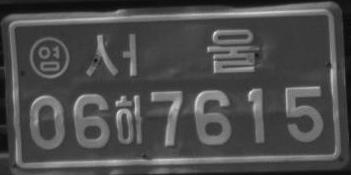0: (28, 94, 66, 151)
1: (241, 88, 276, 143)
5: (284, 85, 323, 143)
6: (194, 89, 232, 146), (73, 93, 111, 149)
7: (150, 89, 184, 147)
서울_D: (85, 27, 259, 76)
영: (28, 36, 69, 79)
하: (114, 94, 143, 145)
